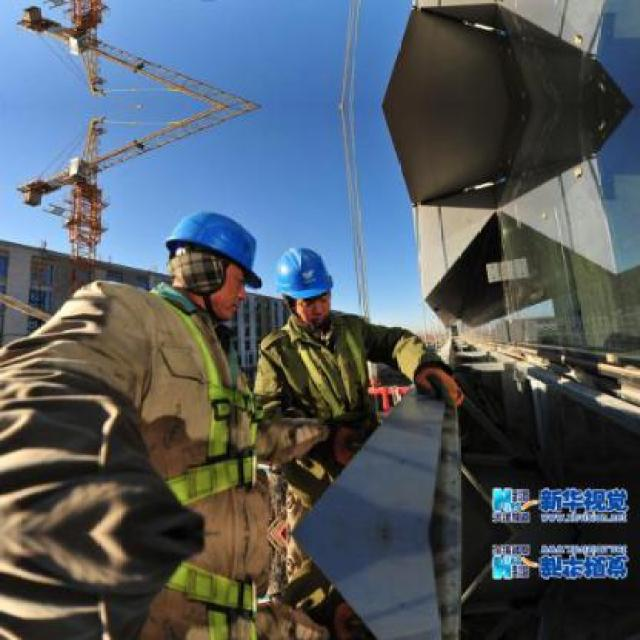helmet: (152, 205, 258, 312), (268, 240, 332, 329)
